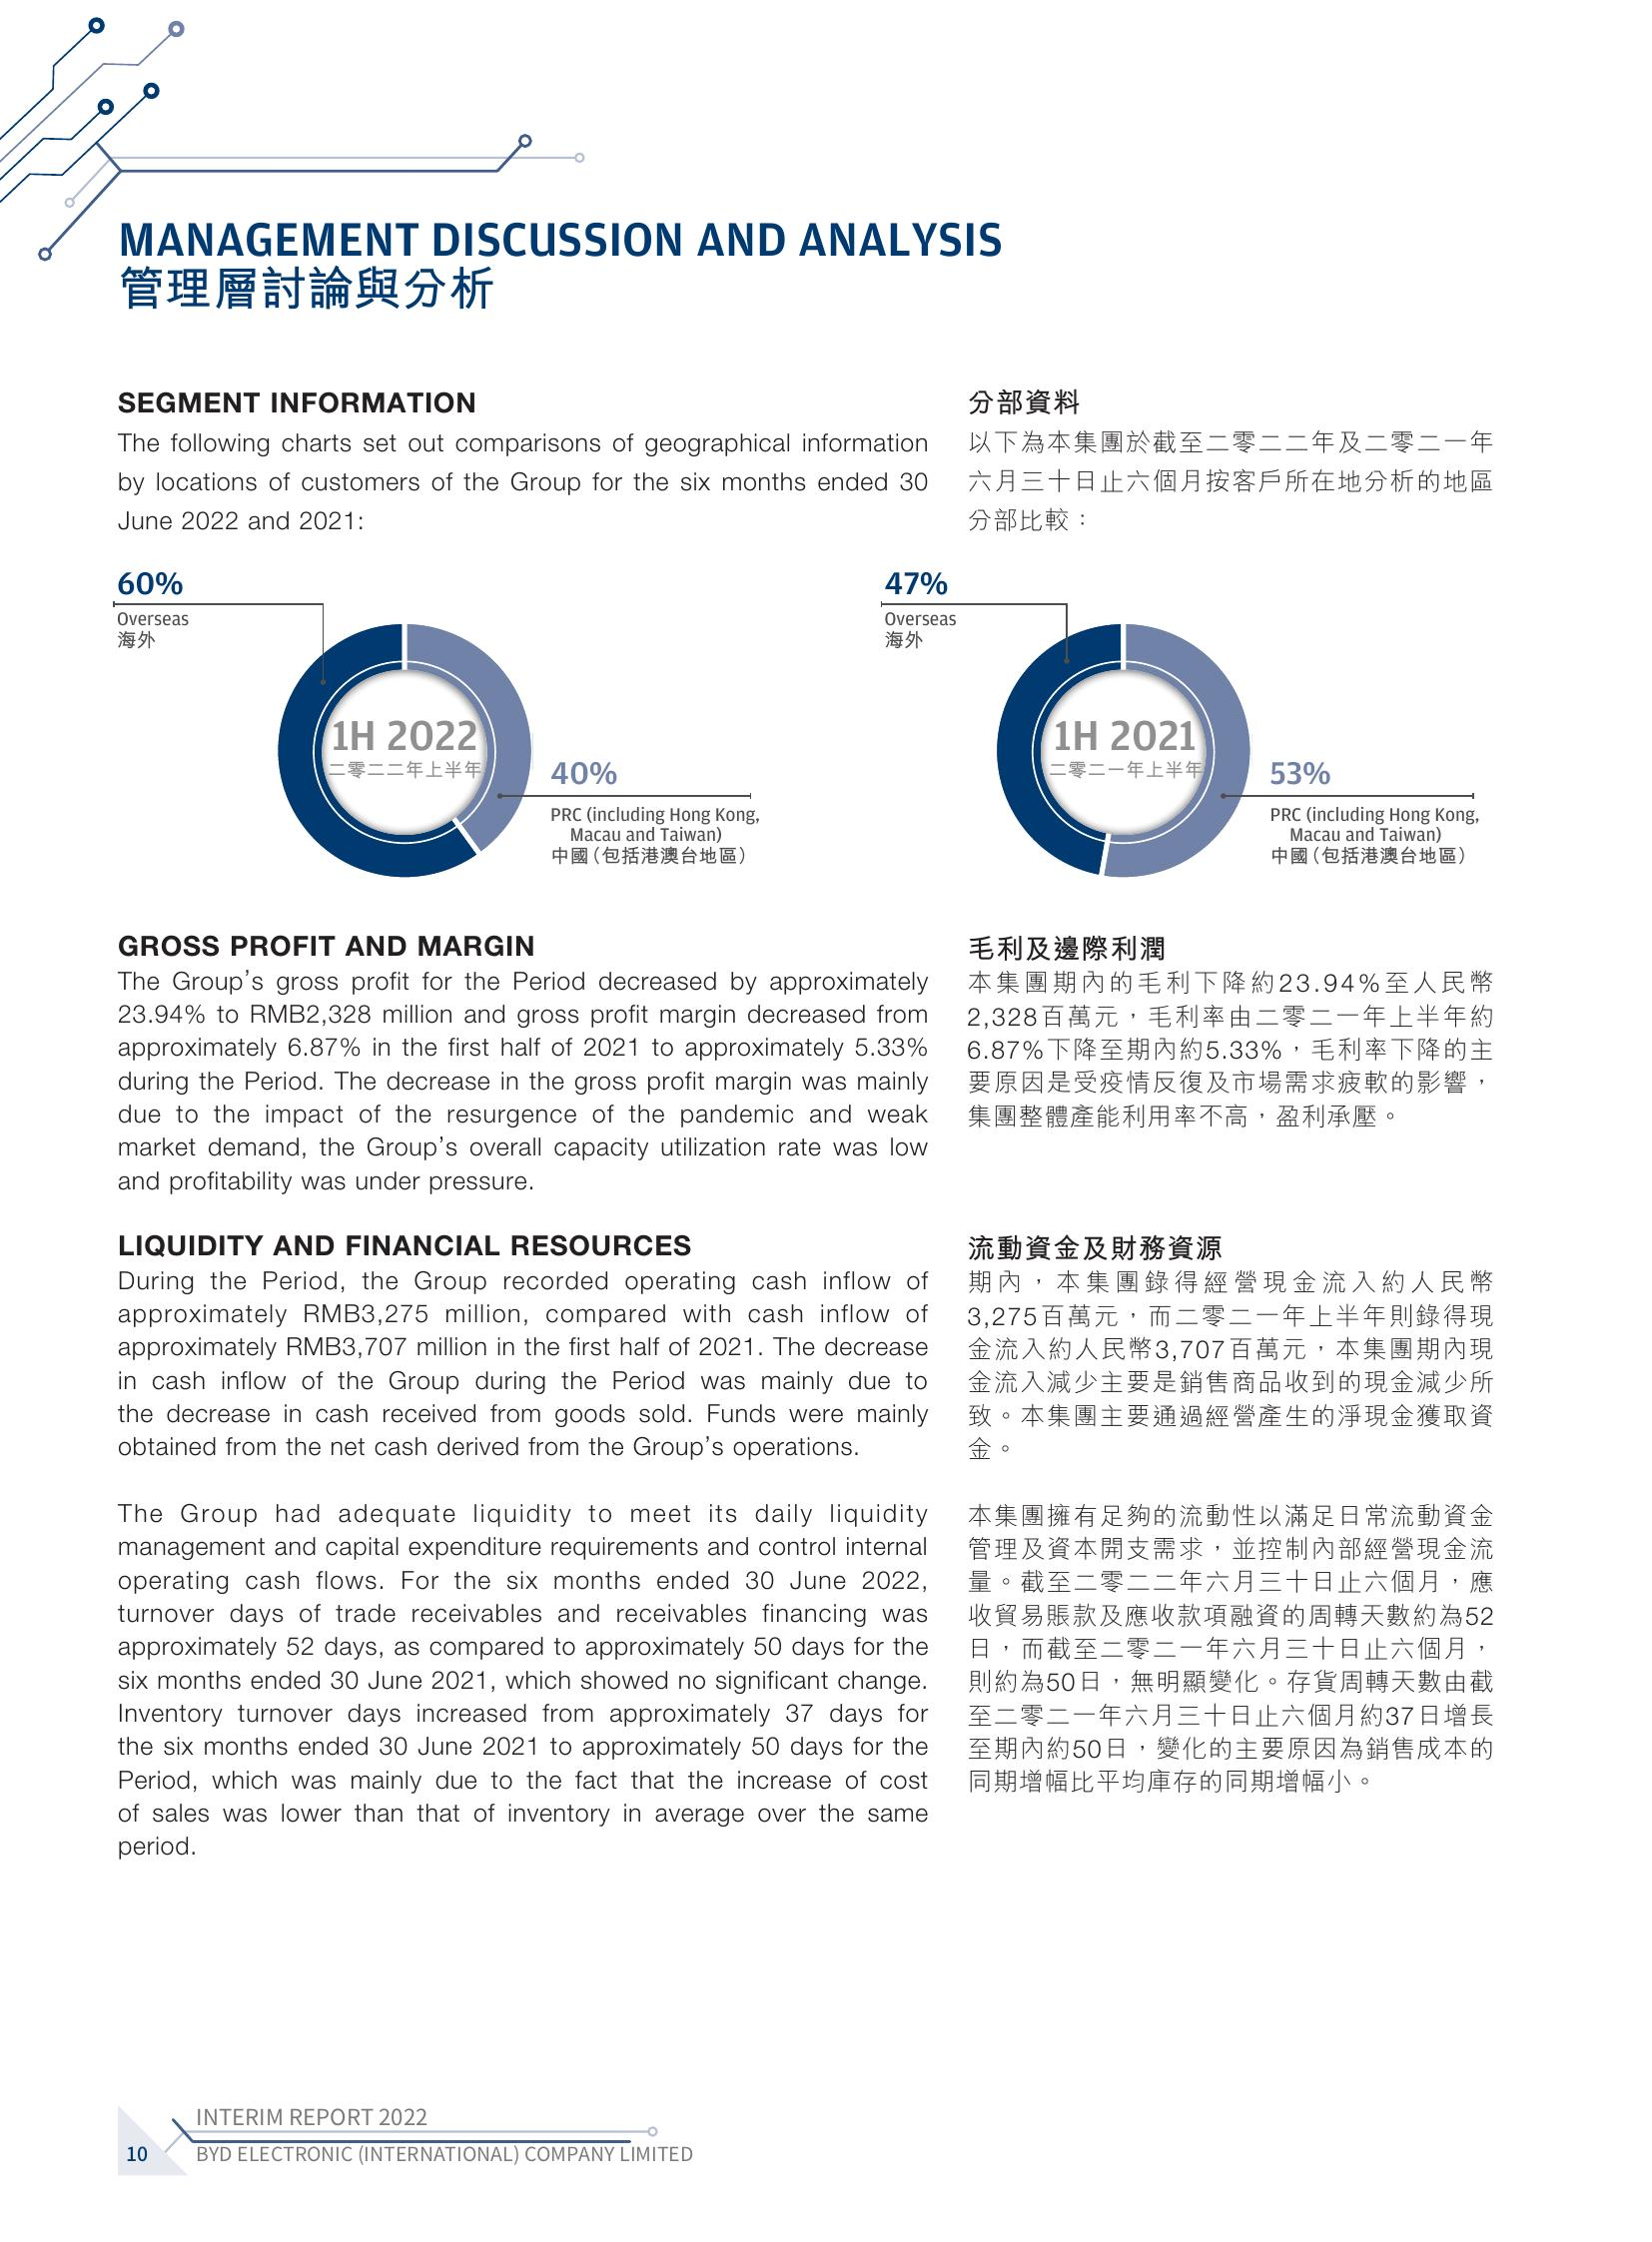Footer: (0, 2042, 1652, 2242)
Header: (0, 0, 1652, 193)
Image: (848, 533, 1539, 905), (84, 543, 782, 909)
